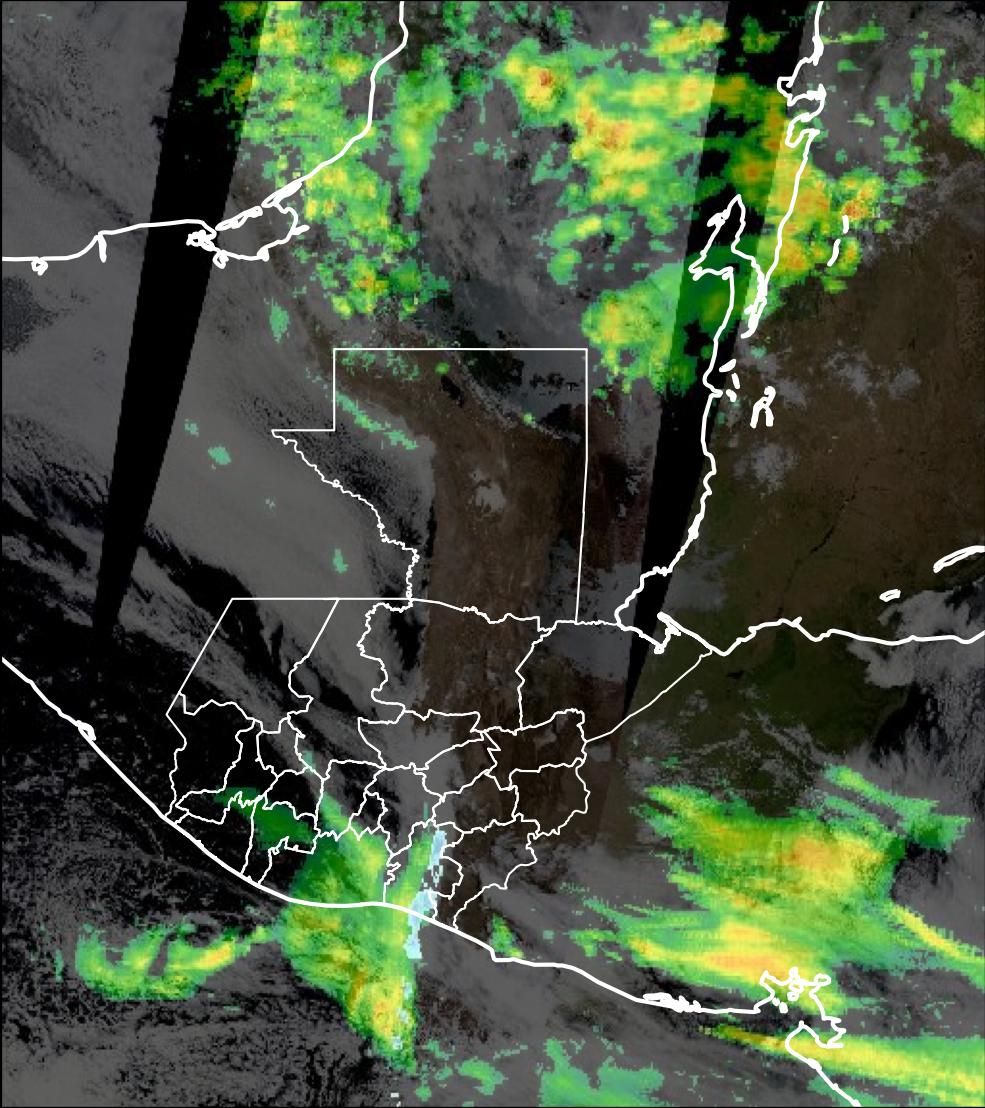precipitacion: (684, 930, 809, 990)
